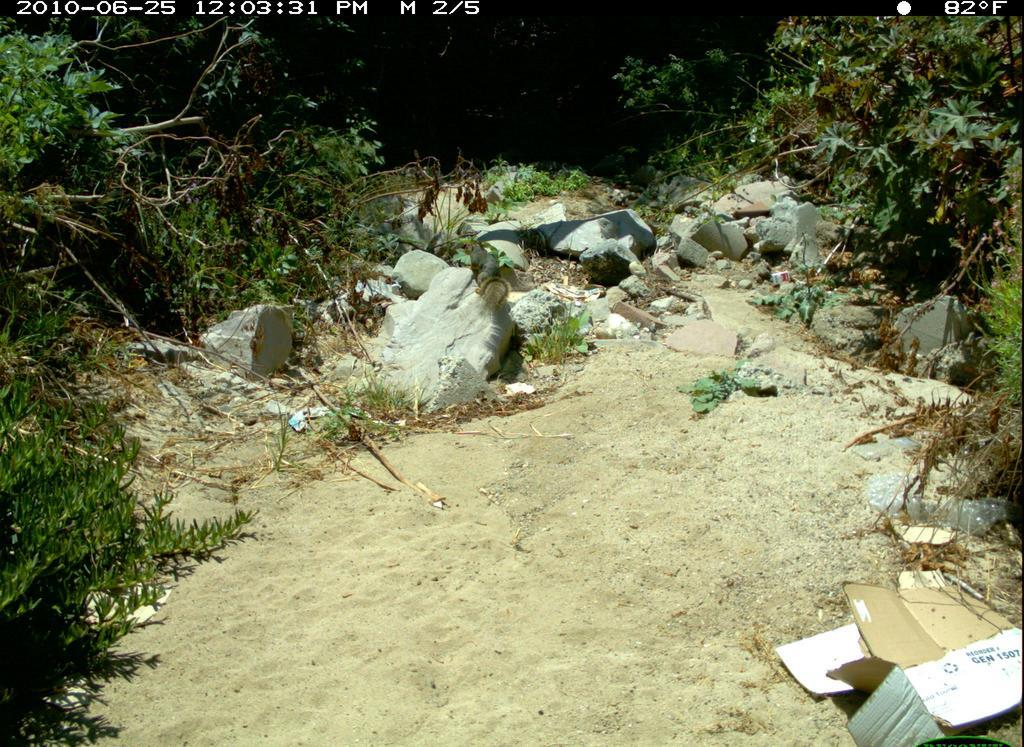squirrel: (464, 231, 520, 314)
